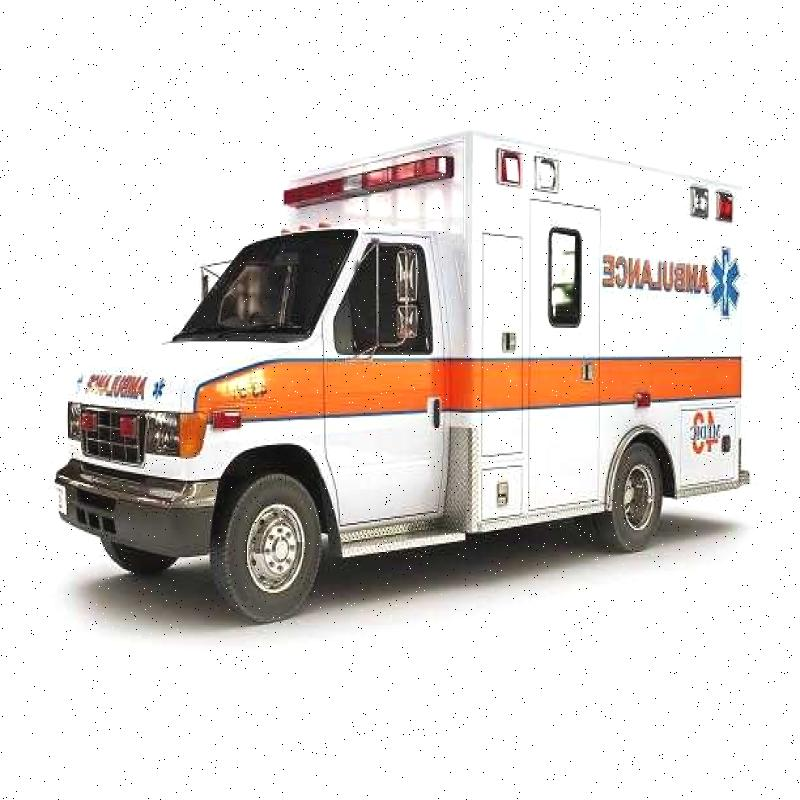AmbulanceSiren: (266, 129, 468, 227)
